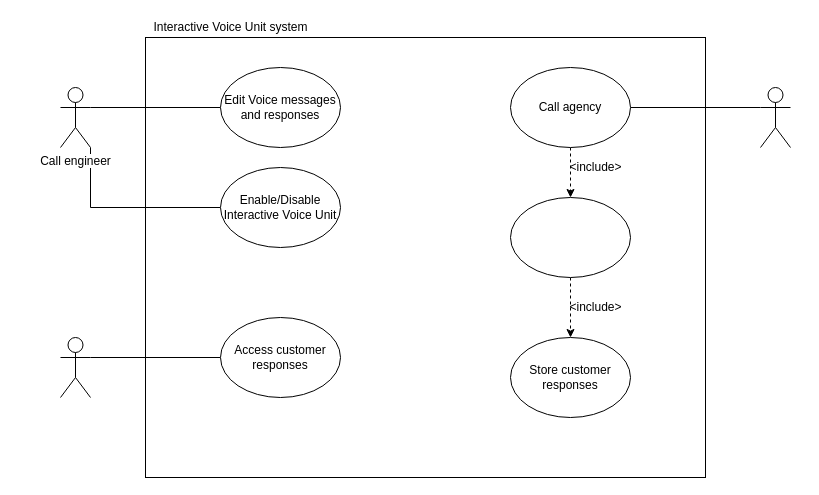
Some shapes in this 819 by 495 pixel diagram are drawn without their labels. The shapes that lost their labels are listed below. From the top down, each one's box as (x1, y1, x2, y2) in pixels, then its label:
(760, 86, 790, 148): Customer
(510, 196, 630, 278): Route to Interactive Voice Unit
(60, 336, 90, 398): Relationship Manager
